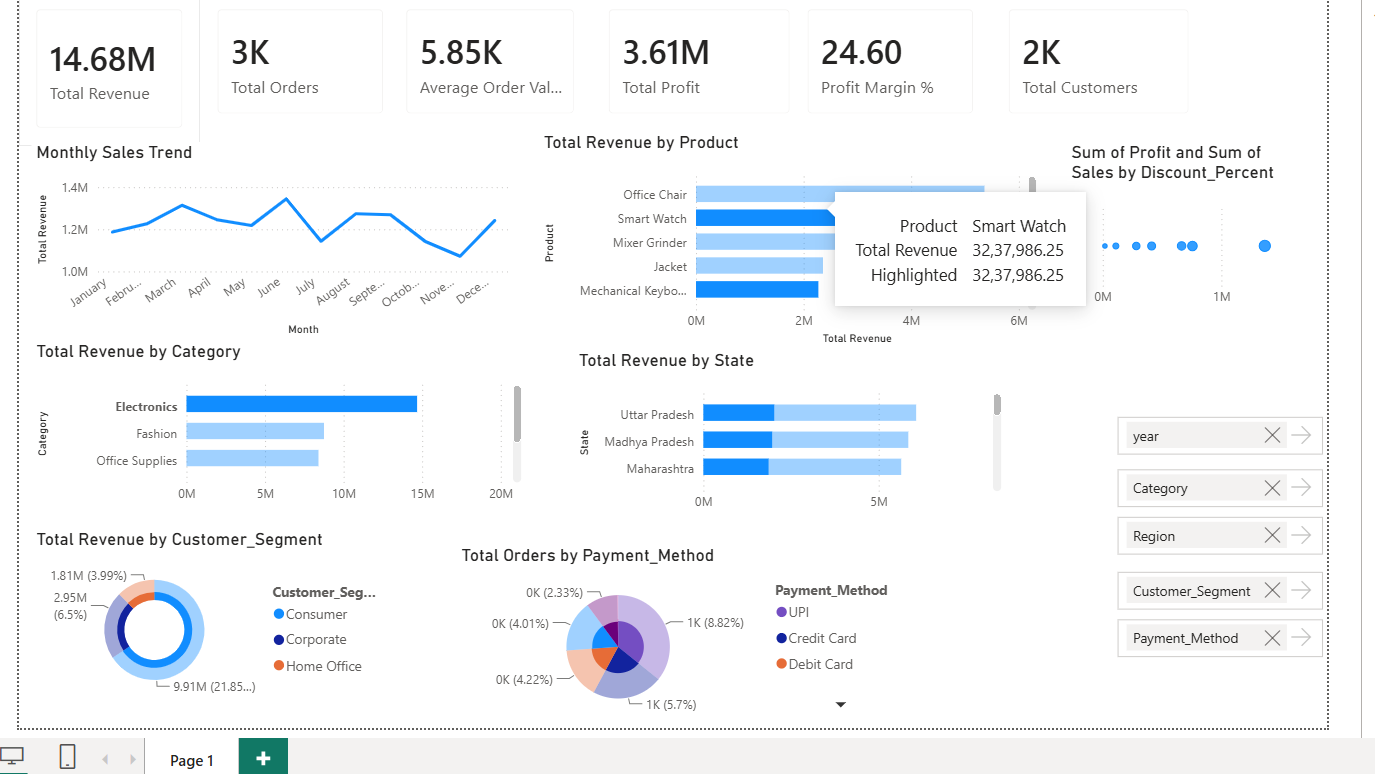

This screenshot's page, from the dashboard's own definition file:
{"tool":"powerbi","page":{"name":"Page 1","canvas":[1280,720],"ordinal":0},"visuals":[{"type":"cardVisual","fields":{"Data":["ecommerce_cleaned.Total Revenue"]},"box":[62.5,61.2,175,105],"z":0},{"type":"cardVisual","fields":{"Data":["ecommerce_cleaned.Profit Margin %"]},"box":[865,65,180,106],"z":1000},{"type":"cardVisual","fields":{"Data":["ecommerce_cleaned.Average Order Value"]},"box":[438.8,67.5,220,103.8],"z":2000},{"type":"cardVisual","fields":{"Data":["ecommerce_cleaned.Total Customers"]},"box":[1058.8,65,196.2,106.2],"z":3000},{"type":"cardVisual","fields":{"Data":["ecommerce_cleaned.Total Orders"]},"box":[265,65,155,107],"z":4000},{"type":"cardVisual","fields":{"Data":["ecommerce_cleaned.Total Profit"]},"box":[672.5,66.2,174,105],"z":5000},{"type":"lineChart","title":"Monthly Sales Trend","fields":{"Category":["ecommerce_cleaned.Order_Date.Variation.Date Hierarchy.Year","ecommerce_cleaned.Order_Date.Variation.Date Hierarchy.Quarter","ecommerce_cleaned.Order_Date.Variation.Date Hierarchy.Month","ecommerce_cleaned.Order_Date.Variation.Date Hierarchy.Day"],"Y":["ecommerce_cleaned.Total Revenue"]},"box":[30,183.8,471.2,142.5],"z":6000},{"type":"clusteredBarChart","fields":{"Category":["ecommerce_cleaned.Category"],"Y":["ecommerce_cleaned.Total Revenue"]},"box":[548.8,183.8,484.2,167.5],"z":7000},{"type":"barChart","fields":{"Category":["ecommerce_cleaned.Product"],"Y":["ecommerce_cleaned.Total Revenue"]},"box":[20,345,491.2,198.8],"z":8000},{"type":"barChart","fields":{"Category":["ecommerce_cleaned.State"],"Y":["ecommerce_cleaned.Total Revenue"]},"box":[580,361.2,423.1,167.5],"z":9000},{"type":"donutChart","fields":{"Category":["ecommerce_cleaned.Customer_Segment"],"Y":["ecommerce_cleaned.Total Revenue"]},"box":[70,551.2,349.7,168.8],"z":10000},{"type":"pieChart","fields":{"Category":["ecommerce_cleaned.Payment_Method"],"Y":["ecommerce_cleaned.Total Orders"]},"box":[538.8,543.8,442.7,170],"z":11000},{"type":"scatterChart","fields":{"Category":["ecommerce_cleaned.Discount_Percent"],"X":["Sum(ecommerce_cleaned.Profit)"],"Size":["Sum(ecommerce_cleaned.Sales)"]},"box":[1046.2,202.5,223.8,170],"z":12000},{"type":"textSlicer","box":[1070,398.8,210.3,46.5],"z":13000},{"type":"textSlicer","box":[1070,460,210.3,46.5],"z":14000},{"type":"textSlicer","box":[1070,526.2,210.3,46.5],"z":15000},{"type":"textSlicer","box":[1070,588.8,210.3,46.5],"z":16000},{"type":"textSlicer","box":[1070,648.8,210.3,46.5],"z":17000},{"type":"textbox","title":"E-Commerce Sales Analytics Dashboard","box":[342.5,0,727.5,56.2],"z":18000}]}

Visuals, with their boxes on the page's 1280x720 design canvas (x1, y1, x2, y2). These are canvas units, not pixel positions in the 1375x774 screenshot, which may show the page scaled, cropped or inside an application window:
cardVisual - ecommerce_cleaned.Total Revenue: box=[62, 61, 238, 166]
cardVisual - ecommerce_cleaned.Profit Margin %: box=[865, 65, 1045, 171]
cardVisual - ecommerce_cleaned.Average Order Value: box=[439, 68, 659, 171]
cardVisual - ecommerce_cleaned.Total Customers: box=[1059, 65, 1255, 171]
cardVisual - ecommerce_cleaned.Total Orders: box=[265, 65, 420, 172]
cardVisual - ecommerce_cleaned.Total Profit: box=[672, 66, 846, 171]
"Monthly Sales Trend" lineChart: box=[30, 184, 501, 326]
clusteredBarChart - ecommerce_cleaned.Category x ecommerce_cleaned.Total Revenue: box=[549, 184, 1033, 351]
barChart - ecommerce_cleaned.Product x ecommerce_cleaned.Total Revenue: box=[20, 345, 511, 544]
barChart - ecommerce_cleaned.State x ecommerce_cleaned.Total Revenue: box=[580, 361, 1003, 529]
donutChart - ecommerce_cleaned.Customer_Segment x ecommerce_cleaned.Total Revenue: box=[70, 551, 420, 720]
pieChart - ecommerce_cleaned.Payment_Method x ecommerce_cleaned.Total Orders: box=[539, 544, 982, 714]
scatterChart - ecommerce_cleaned.Discount_Percent x Sum(ecommerce_cleaned.Profit): box=[1046, 202, 1270, 372]
textSlicer: box=[1070, 399, 1280, 445]
textSlicer: box=[1070, 460, 1280, 506]
textSlicer: box=[1070, 526, 1280, 573]
textSlicer: box=[1070, 589, 1280, 635]
textSlicer: box=[1070, 649, 1280, 695]
"E-Commerce Sales Analytics Dashboard" textbox: box=[342, 0, 1070, 56]
